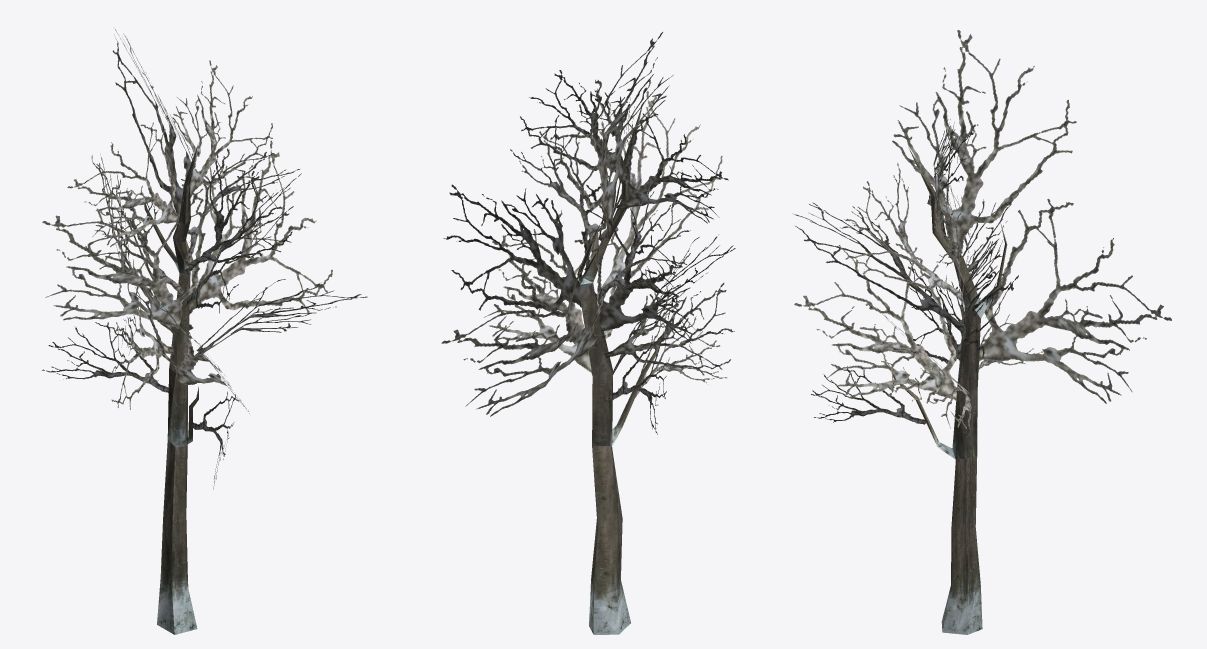
The model's file is environment_Tree_xue_002_a.FBX.
3 views of the same model, side by side, from view 1: azimuth 30°, elevation 25°; view 2: azimuth 150°, elevation 25°; view 3: azimuth 270°, elevation 25° (orthographic). The views are drawn at different scales.
Visible parts, largest first — view 1: environment_Tree_xue_002_a; view 2: environment_Tree_xue_002_a; view 3: environment_Tree_xue_002_a.
Part boxes in pixels (x1,y1,x2,y2): environment_Tree_xue_002_a: (42,29,367,634); environment_Tree_xue_002_a: (441,32,735,634); environment_Tree_xue_002_a: (792,30,1171,634).
Size of the model in its own units: 202 by 390 by 254.
1 material, 1 textured.
